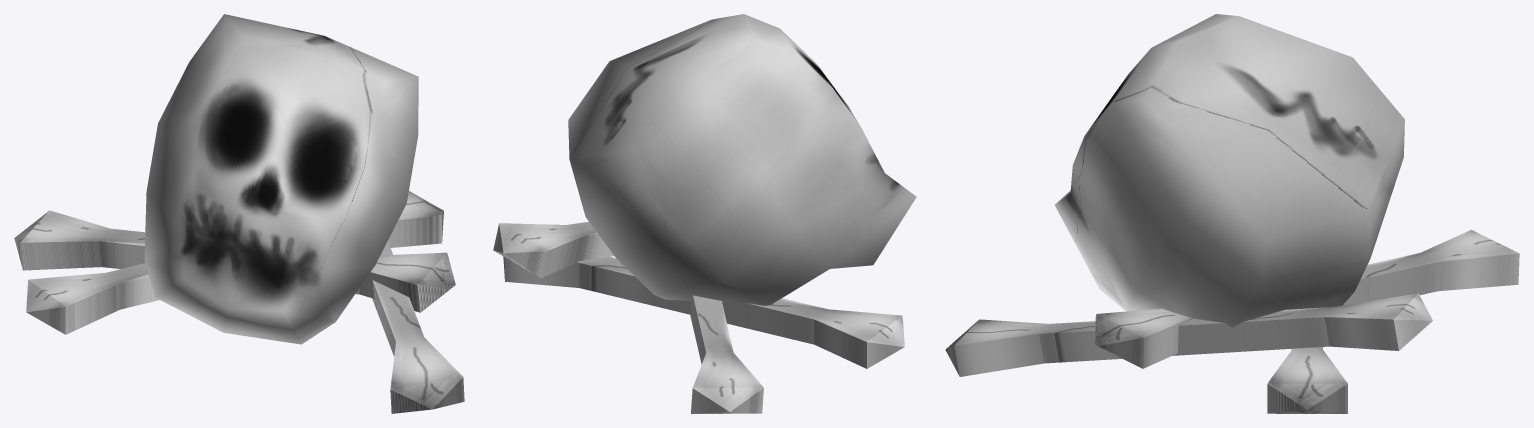
File: esqueleto.fbx
3 renders of one model, left to right at view 1: azimuth 30°, elevation 25°; view 2: azimuth 150°, elevation 25°; view 3: azimuth 270°, elevation 25°, orthographic. The views are drawn at different scales.
Parts seen in each view (by area): view 1: Pilha de Ossos; view 2: Pilha de Ossos; view 3: Pilha de Ossos.
Boxes of the visible parts, x1=… form: Pilha de Ossos: x1=14, y1=14, x2=464, y2=413; Pilha de Ossos: x1=493, y1=14, x2=916, y2=413; Pilha de Ossos: x1=945, y1=14, x2=1519, y2=413.
Size of the model in its own units: 1.29 by 0.8751 by 1.43.
